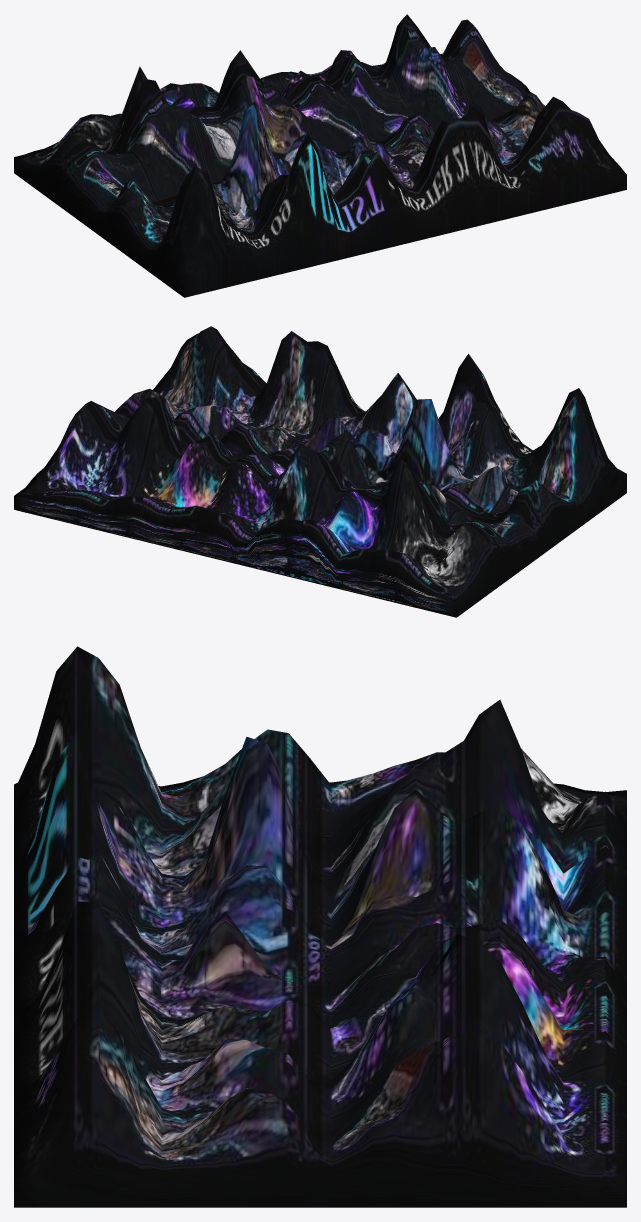
Rendered from CAREER_09_Poster_21.glb.
The picture shows the model from 3 angles, top to bottom: view 1: azimuth 30°, elevation 25°; view 2: azimuth 150°, elevation 25°; view 3: azimuth 270°, elevation 25°; orthographic projection. The views are drawn at different scales.
Visible parts, largest first — view 1: CAREER_09_Poster_21; view 2: CAREER_09_Poster_21; view 3: CAREER_09_Poster_21.
Part boxes in pixels (<box>): CAREER_09_Poster_21: <box>14,14,626,297</box>; CAREER_09_Poster_21: <box>14,326,626,617</box>; CAREER_09_Poster_21: <box>14,646,626,1207</box>.
Size of the model in its own units: 2 by 0.51 by 1.33.
1 material, 1 textured.
